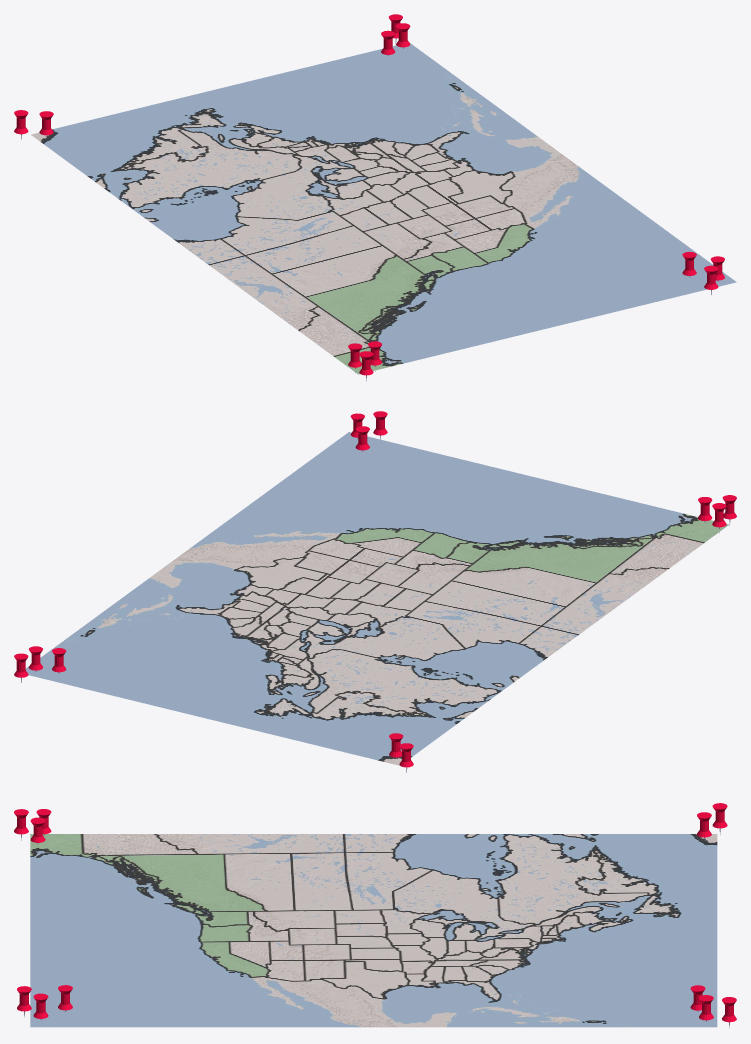
The model's file is region-map-2.glb.
The picture shows the model from 3 angles, top to bottom: view 1: azimuth 30°, elevation 25°; view 2: azimuth 150°, elevation 25°; view 3: azimuth 270°, elevation 25°; orthographic projection. The views are drawn at different scales.
Parts seen in each view (by area): view 1: Plane; view 2: Plane; view 3: Plane.
Boxes of the visible parts, x1=… form: Plane: x1=31, y1=43, x2=736, y2=374; Plane: x1=25, y1=432, x2=728, y2=765; Plane: x1=30, y1=834, x2=717, y2=1027.
Size of the model in its own units: 2.07 by 0.1437 by 3.16.
Materials: 3 (1 with a texture image).
